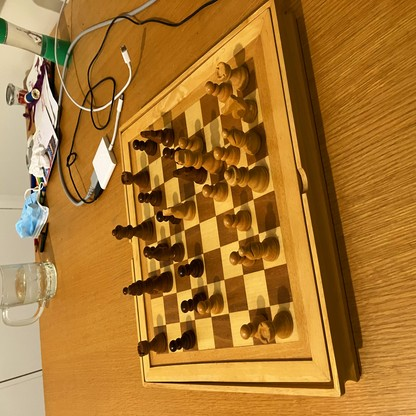bishop_black: (128, 271, 173, 296), (148, 243, 185, 261)
bishop_white: (222, 128, 261, 157), (239, 237, 280, 262)
king_white: (175, 150, 227, 172)
knight_black: (173, 167, 207, 182), (140, 130, 173, 145)
knight_white: (221, 96, 257, 122), (163, 201, 196, 219)
pawn_black: (181, 290, 208, 310), (169, 330, 196, 350), (178, 257, 204, 277), (133, 138, 158, 155), (138, 189, 161, 206)
pawn_white: (240, 312, 266, 338), (204, 80, 233, 101), (198, 294, 225, 315), (224, 212, 251, 232), (213, 147, 240, 164), (203, 184, 228, 201), (229, 252, 256, 267), (179, 138, 204, 152)
queen_black: (112, 220, 153, 241)
queen_white: (224, 165, 269, 192)
rock_black: (137, 332, 167, 355), (121, 166, 149, 189)
rock_white: (257, 311, 293, 342), (217, 64, 249, 90)
